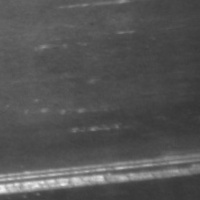scratches: (0, 142, 199, 198)
